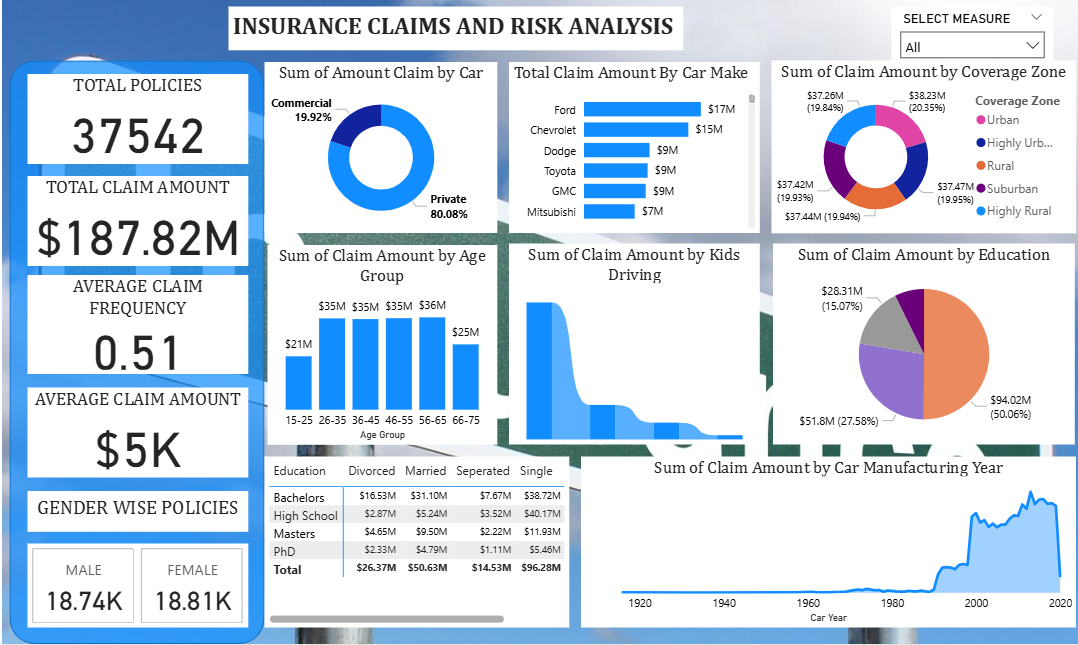

The page's visual inventory and layout, read from the dashboard file:
{"tool":"powerbi","page":{"name":"Page 1","canvas":[1280,720],"ordinal":0},"visuals":[{"type":"textbox","box":[291.7,11.7,505,48.3],"z":0},{"type":"shape","box":[48.3,71.7,283.3,648.3],"z":1000},{"type":"card","title":"TOTAL CLAIM AMOUNT","fields":{"Values":["Sum(insurance_data_car.Claim Amount)"]},"box":[68.3,200,245,100],"z":2000},{"type":"card","title":"AVERAGE CLAIM AMOUNT","fields":{"Values":["Avg(insurance_data_car.Claim Amount)"]},"box":[68.3,435,245,100],"z":3000},{"type":"card","title":"TOTAL POLICIES","fields":{"Values":["insurance_data_car.TOTAL POLICIES"]},"box":[68.3,86.7,245,100],"z":4000},{"type":"card","title":"AVERAGE CLAIM FREQUENCY","fields":{"Values":["Avg(insurance_data_car.Claim Freq)"]},"box":[68.3,310,245,110],"z":5000},{"type":"cardVisual","title":"AVERAGE CLAIM AMOUNT","fields":{"Data":["insurance_data_car.MALE","insurance_data_car.FEMALE"]},"box":[68.3,608.3,245,93.3],"z":6000},{"type":"textbox","box":[68.3,550,245,45],"z":7000},{"type":"donutChart","title":"Sum of Amount Claim by Car","fields":{"Category":["insurance_data_car.Car Use"],"Y":["Sum(insurance_data_car.Claim Amount)"]},"box":[331.7,73.3,258.3,190],"z":8000},{"type":"slicer","fields":{"Values":["SELECT MEASURE.SELECT MEASURE"]},"box":[1028.3,11.7,180,60],"z":9000},{"type":"clusteredBarChart","title":"Total Claim Amount By Car Make","fields":{"Y":["Sum(insurance_data_car.Claim Amount)"],"Category":["insurance_data_car.Car Make"]},"box":[603.3,73.3,278.3,190],"z":10000},{"type":"donutChart","fields":{"Category":["insurance_data_car.Coverage Zone"],"Y":["Sum(insurance_data_car.Claim Amount)"]},"box":[895,71.7,338.3,191.7],"z":11000},{"type":"lineChart","title":"Sum of Claim Amount by Car Manufacturing Year","fields":{"Category":["insurance_data_car.Car Year"],"Y":["Sum(insurance_data_car.Claim Amount)"]},"box":[683.3,511.7,550,190],"z":11001},{"type":"pieChart","fields":{"Category":["insurance_data_car.Education"],"Y":["Sum(insurance_data_car.Claim Amount)"]},"box":[896.7,275,335,223.3],"z":11002},{"type":"columnChart","fields":{"Category":["insurance_data_car.Age Group"],"Y":["Sum(insurance_data_car.Claim Amount)"]},"box":[335,276.7,255,221.7],"z":11003},{"type":"ribbonChart","fields":{"Category":["insurance_data_car.Kids Driving"],"Y":["Sum(insurance_data_car.Claim Amount)"]},"box":[603.3,275,278.3,223.3],"z":11004},{"type":"pivotTable","fields":{"Rows":["insurance_data_car.Education"],"Columns":["insurance_data_car.Marital Status"],"Values":["Sum(insurance_data_car.Claim Amount)"]},"box":[331.7,511.7,338.3,190],"z":11005},{"type":"actionButton","box":[0,0,100,40],"z":11006}]}

Visuals, with their boxes in screenshot pixels (x1, y1, x2, y2):
textbox: bbox(227, 8, 678, 51)
shape: bbox(9, 61, 262, 640)
"TOTAL CLAIM AMOUNT" card: bbox(27, 176, 246, 265)
"AVERAGE CLAIM AMOUNT" card: bbox(27, 386, 246, 475)
"TOTAL POLICIES" card: bbox(27, 75, 246, 164)
"AVERAGE CLAIM FREQUENCY" card: bbox(27, 274, 246, 372)
"AVERAGE CLAIM AMOUNT" cardVisual: bbox(27, 540, 246, 624)
textbox: bbox(27, 488, 246, 528)
"Sum of Amount Claim by Car" donutChart: bbox(262, 63, 493, 232)
slicer - SELECT MEASURE.SELECT MEASURE: bbox(884, 8, 1045, 61)
"Total Claim Amount By Car Make" clusteredBarChart: bbox(505, 63, 753, 232)
donutChart - insurance_data_car.Coverage Zone x Sum(insurance_data_car.Claim Amount): bbox(765, 61, 1067, 232)
"Sum of Claim Amount by Car Manufacturing Year" lineChart: bbox(576, 454, 1067, 624)
pieChart - insurance_data_car.Education x Sum(insurance_data_car.Claim Amount): bbox(767, 243, 1066, 442)
columnChart - insurance_data_car.Age Group x Sum(insurance_data_car.Claim Amount): bbox(265, 244, 493, 442)
ribbonChart - insurance_data_car.Kids Driving x Sum(insurance_data_car.Claim Amount): bbox(505, 243, 753, 442)
pivotTable - insurance_data_car.Education x insurance_data_car.Marital Status: bbox(262, 454, 564, 624)
actionButton: bbox(0, 0, 56, 33)
